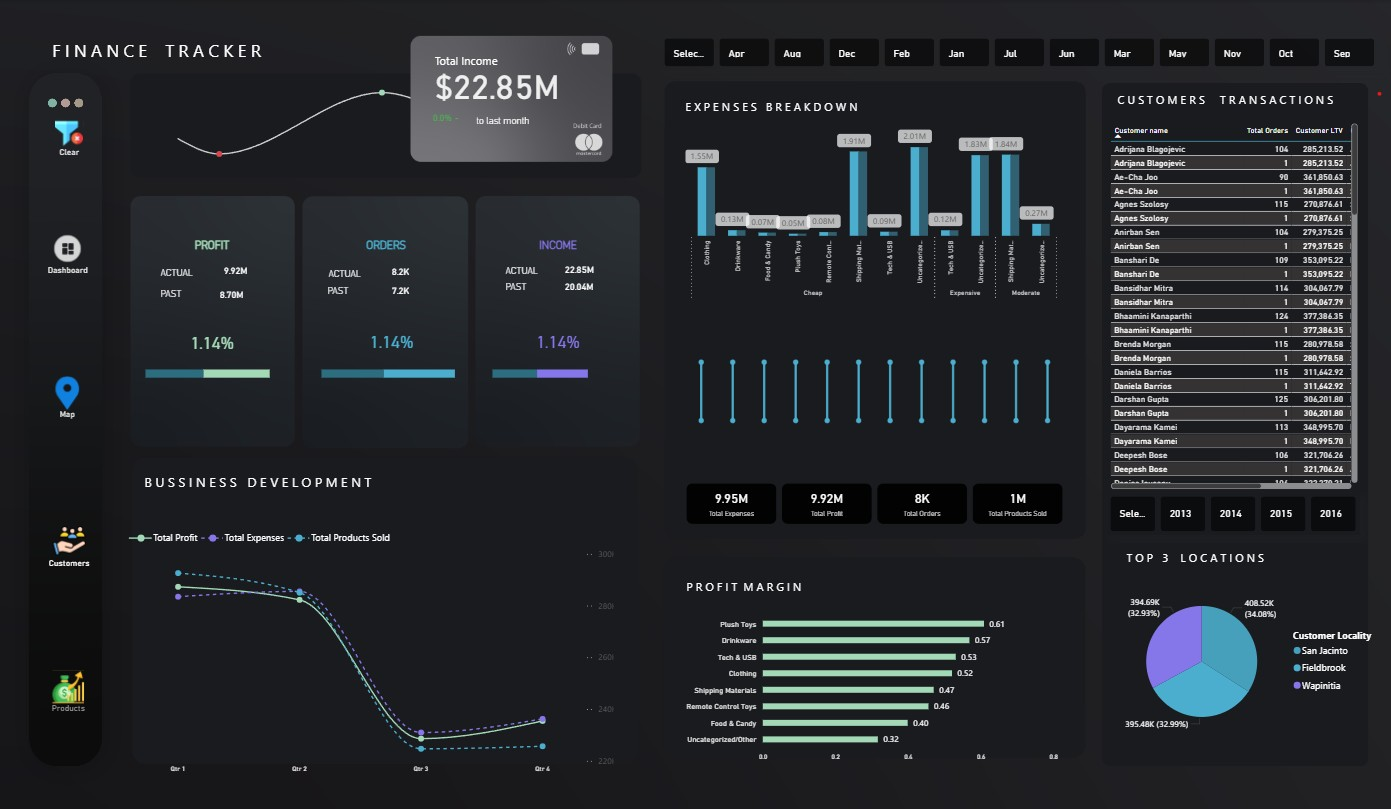

This screenshot's page, from the dashboard's own definition file:
{"tool":"powerbi","page":{"name":"Dashboard","canvas":[2000,1166],"ordinal":0},"visuals":[{"type":"image","box":[0,44.1,196.5,1123.8],"z":0},{"type":"actionButton","box":[44.3,482.5,104.3,172.9],"z":0,"group":"g1"},{"type":"image","box":[181.8,271.8,246.1,380.1],"z":1000},{"type":"actionButton","box":[47.4,696.3,104.3,170],"z":1000,"group":"g1"},{"type":"image","box":[430,272.5,247.5,380],"z":2000},{"type":"actionButton","box":[46,907.3,104.3,167.1],"z":2000,"group":"g1"},{"type":"image","box":[677.6,271.8,246.1,380.1],"z":3000},{"type":"actionButton","box":[44.5,281.6,105.7,160],"z":3000,"group":"g1"},{"type":"image","box":[948.8,45,615,801.2],"z":4000},{"type":"actionButton","box":[45.3,146,107.1,98.6],"z":4000,"group":"g1"},{"type":"image","box":[947.1,768.6,615.7,351.4],"z":5000},{"type":"image","box":[181,651.7,743.1,450],"z":6000},{"type":"image","box":[129.3,100,850,160.3],"z":7000},{"type":"lineChart","fields":{"Category":["DimCalendar.Date"],"Y":["_Measures.Net Balance"]},"box":[246,111.7,489.1,141.3],"z":8000},{"type":"image","box":[584.3,44.3,300,195.7],"z":9000},{"type":"textbox","box":[50,50,512.5,50],"z":10000},{"type":"shape","box":[1582.1,119.1,382.5,981.5],"z":11000},{"type":"advancedSlicerVisual","fields":{"Values":["DimDate.Month abv"]},"box":[948.6,50,1041.4,50],"z":12000},{"type":"cardVisual","fields":{"Data":["_Measures.Income MoM % Numeric"]},"box":[604.4,143.3,115.6,51.1],"z":13000},{"type":"textbox","box":[679.8,159.1,120.6,35.6],"z":14000},{"type":"textbox","box":[979.2,137.4,511.9,49.4],"z":15000},{"type":"cardVisual","fields":{"Data":["_Measures.Total Expenses","_Measures.Total Profit","_Measures.Total Orders","_Measures.Total Products Sold"]},"box":[980.2,688.7,550.4,68.2],"z":16000},{"type":"barChart","fields":{"Category":["DimStockItem.Product Category"],"Y":["_Measures.Profit Margin %"]},"box":[980,868.6,550,231.4],"z":17000},{"type":"textbox","box":[980.2,827.1,511.9,49.4],"z":18000},{"type":"cardVisual","fields":{"Data":["_Measures.Total Profit"]},"box":[304.4,365.7,107.8,45.6],"z":19000},{"type":"textbox","box":[254.9,336,97.8,31.6],"z":20000},{"type":"textbox","box":[504.9,336,97.8,31.6],"z":21000},{"type":"textbox","box":[752,336,97.8,31.6],"z":22000},{"type":"cardVisual","fields":{"Data":["_Measures.Target Profit"]},"box":[298.4,400.2,108.7,45.5],"z":23000},{"type":"cardVisual","fields":{"Data":["_Measures.Total Orders"]},"box":[545.1,367.2,108.7,45.5],"z":24000},{"type":"cardVisual","fields":{"Data":["_Measures.Target Orders"]},"box":[545.1,394.6,108.7,45.5],"z":25000},{"type":"cardVisual","fields":{"Data":["_Measures.Total Income"]},"box":[794.6,364.2,108.7,45.5],"z":26000},{"type":"cardVisual","fields":{"Data":["_Measures.Target Income"]},"box":[794.6,388.9,108.7,45.5],"z":27000},{"type":"textbox","box":[720.4,374.5,97.8,31.6],"z":28000},{"type":"textbox","box":[720.4,398.2,97.8,31.6],"z":29000},{"type":"textbox","box":[466.4,378.5,97.8,31.6],"z":30000},{"type":"textbox","box":[465.4,403.2,97.8,31.6],"z":31000},{"type":"textbox","box":[225.6,377.3,81.1,30],"z":32000},{"type":"textbox","box":[225.3,408.1,97.8,31.6],"z":33000},{"type":"barChart","fields":{"Y":["_Measures.Target Income","_Measures.Total Income"]},"box":[701.6,480.2,201.6,108.7],"z":34000},{"type":"cardVisual","fields":{"Data":["_Measures.Petty Expense Progress %%"]},"box":[739.6,466.9,123.5,49.4],"z":35000},{"type":"hundredPercentStackedBarChart","fields":{"Y":["_Measures.Target Orders","_Measures.Total Orders"]},"box":[457.1,479.9,201.6,108.7],"z":36000},{"type":"cardVisual","fields":{"Data":["_Measures.Order Progress %%"]},"box":[481.4,467.1,162.9,48.6],"z":37000},{"type":"barChart","fields":{"Y":["_Measures.Target Profit","_Measures.Total Profit"]},"box":[203.6,480.2,201.6,108.7],"z":38000},{"type":"cardVisual","fields":{"Data":["_Measures.Profit Progress %%"]},"box":[190,467.1,230,50],"z":39000},{"type":"textbox","box":[202.9,674.3,381.4,48.6],"z":40000},{"type":"tableEx","fields":{"Values":["DimCustomer.Customer name","_Measures.Total Orders","DimCustomer.Customer LTV","DimCustomer.Customer Locality","FactSale.Customer Status"]},"box":[1590,173,365,535],"z":41000},{"type":"textbox","box":[1600,127.5,355,45],"z":42000},{"type":"textbox","box":[1612.9,785.7,302.9,41.4],"z":43000},{"type":"cardVisual","title":"TOTAL REVENUE","fields":{"Data":["_Measures.Total Income"]},"box":[607.8,71.1,253.3,92.2],"z":44000},{"type":"lineClusteredColumnComboChart","fields":{"Category":["DimStockItem.Product Price Category","DimStockItem.Product Category"],"Y":["_Measures.Total Expenses","_Measures.Previous Month Expenses1"]},"box":[980,172.5,551.2,266.2],"z":45000},{"type":"lineChart","fields":{"Category":["DimDate.Datex.Variation.Date Hierarchy.Quarter","DimDate.Datex.Variation.Date Hierarchy.Month","DimDate.Datex.Variation.Date Hierarchy.Day"],"Y":["_Measures.Total Profit","_Measures.Total Expenses"],"Y2":["_Measures.Total Products Sold"]},"box":[181.2,752.5,705,367.5],"z":46000},{"type":"pieChart","fields":{"Category":["DimCustomer.Customer Locality"],"Y":["_Measures.Total Income"]},"box":[1590,800,400,300],"z":47000},{"type":"group","id":"g1","title":"Group 1","box":[44.3,146,108.2,928.4],"z":48000},{"type":"lineClusteredColumnComboChart","fields":{"Category":["DimStockItem.Product Price Category","DimStockItem.Product Category"],"Y":["_Measures.Total Expense","_Measures.Previous Month Expenses"]},"box":[978.8,480,552.5,140],"z":49000},{"type":"advancedSlicerVisual","fields":{"Values":["DimDate.Year"]},"box":[1590,708.6,364.3,60],"z":50000}]}

Visuals, with their boxes on the page's 2000x1166 design canvas (x1, y1, x2, y2). These are canvas units, not pixel positions in the 1391x809 screenshot, which may show the page scaled, cropped or inside an application window:
image: {"left": 0, "top": 44, "right": 196, "bottom": 1168}
actionButton: {"left": 44, "top": 482, "right": 149, "bottom": 655}
image: {"left": 182, "top": 272, "right": 428, "bottom": 652}
actionButton: {"left": 47, "top": 696, "right": 152, "bottom": 866}
image: {"left": 430, "top": 272, "right": 678, "bottom": 652}
actionButton: {"left": 46, "top": 907, "right": 150, "bottom": 1074}
image: {"left": 678, "top": 272, "right": 924, "bottom": 652}
actionButton: {"left": 44, "top": 282, "right": 150, "bottom": 442}
image: {"left": 949, "top": 45, "right": 1564, "bottom": 846}
actionButton: {"left": 45, "top": 146, "right": 152, "bottom": 245}
image: {"left": 947, "top": 769, "right": 1563, "bottom": 1120}
image: {"left": 181, "top": 652, "right": 924, "bottom": 1102}
image: {"left": 129, "top": 100, "right": 979, "bottom": 260}
lineChart - DimCalendar.Date x _Measures.Net Balance: {"left": 246, "top": 112, "right": 735, "bottom": 253}
image: {"left": 584, "top": 44, "right": 884, "bottom": 240}
textbox: {"left": 50, "top": 50, "right": 562, "bottom": 100}
shape: {"left": 1582, "top": 119, "right": 1965, "bottom": 1101}
advancedSlicerVisual - DimDate.Month abv: {"left": 949, "top": 50, "right": 1990, "bottom": 100}
cardVisual - _Measures.Income MoM % Numeric: {"left": 604, "top": 143, "right": 720, "bottom": 194}
textbox: {"left": 680, "top": 159, "right": 800, "bottom": 195}
textbox: {"left": 979, "top": 137, "right": 1491, "bottom": 187}
cardVisual - _Measures.Total Expenses x _Measures.Total Profit: {"left": 980, "top": 689, "right": 1531, "bottom": 757}
barChart - DimStockItem.Product Category x _Measures.Profit Margin %: {"left": 980, "top": 869, "right": 1530, "bottom": 1100}
textbox: {"left": 980, "top": 827, "right": 1492, "bottom": 876}
cardVisual - _Measures.Total Profit: {"left": 304, "top": 366, "right": 412, "bottom": 411}
textbox: {"left": 255, "top": 336, "right": 353, "bottom": 368}
textbox: {"left": 505, "top": 336, "right": 603, "bottom": 368}
textbox: {"left": 752, "top": 336, "right": 850, "bottom": 368}
cardVisual - _Measures.Target Profit: {"left": 298, "top": 400, "right": 407, "bottom": 446}
cardVisual - _Measures.Total Orders: {"left": 545, "top": 367, "right": 654, "bottom": 413}
cardVisual - _Measures.Target Orders: {"left": 545, "top": 395, "right": 654, "bottom": 440}
cardVisual - _Measures.Total Income: {"left": 795, "top": 364, "right": 903, "bottom": 410}
cardVisual - _Measures.Target Income: {"left": 795, "top": 389, "right": 903, "bottom": 434}
textbox: {"left": 720, "top": 374, "right": 818, "bottom": 406}
textbox: {"left": 720, "top": 398, "right": 818, "bottom": 430}
textbox: {"left": 466, "top": 378, "right": 564, "bottom": 410}
textbox: {"left": 465, "top": 403, "right": 563, "bottom": 435}
textbox: {"left": 226, "top": 377, "right": 307, "bottom": 407}
textbox: {"left": 225, "top": 408, "right": 323, "bottom": 440}
barChart - _Measures.Target Income x _Measures.Total Income: {"left": 702, "top": 480, "right": 903, "bottom": 589}
cardVisual - _Measures.Petty Expense Progress %%: {"left": 740, "top": 467, "right": 863, "bottom": 516}
hundredPercentStackedBarChart - _Measures.Target Orders x _Measures.Total Orders: {"left": 457, "top": 480, "right": 659, "bottom": 589}
cardVisual - _Measures.Order Progress %%: {"left": 481, "top": 467, "right": 644, "bottom": 516}
barChart - _Measures.Target Profit x _Measures.Total Profit: {"left": 204, "top": 480, "right": 405, "bottom": 589}
cardVisual - _Measures.Profit Progress %%: {"left": 190, "top": 467, "right": 420, "bottom": 517}
textbox: {"left": 203, "top": 674, "right": 584, "bottom": 723}
tableEx - DimCustomer.Customer name x _Measures.Total Orders: {"left": 1590, "top": 173, "right": 1955, "bottom": 708}
textbox: {"left": 1600, "top": 128, "right": 1955, "bottom": 172}
textbox: {"left": 1613, "top": 786, "right": 1916, "bottom": 827}
"TOTAL REVENUE" cardVisual: {"left": 608, "top": 71, "right": 861, "bottom": 163}
lineClusteredColumnComboChart - DimStockItem.Product Price Category x DimStockItem.Product Category: {"left": 980, "top": 172, "right": 1531, "bottom": 439}
lineChart - DimDate.Datex.Variation.Date Hierarchy.Quarter x DimDate.Datex.Variation.Date Hierarchy.Month: {"left": 181, "top": 752, "right": 886, "bottom": 1120}
pieChart - DimCustomer.Customer Locality x _Measures.Total Income: {"left": 1590, "top": 800, "right": 1990, "bottom": 1100}
"Group 1" group: {"left": 44, "top": 146, "right": 152, "bottom": 1074}
lineClusteredColumnComboChart - DimStockItem.Product Price Category x DimStockItem.Product Category: {"left": 979, "top": 480, "right": 1531, "bottom": 620}
advancedSlicerVisual - DimDate.Year: {"left": 1590, "top": 709, "right": 1954, "bottom": 769}
